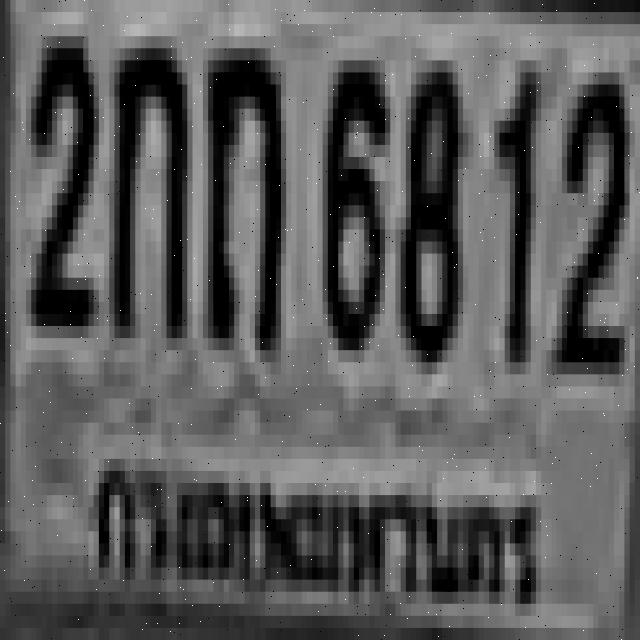1: (489, 55, 536, 356)
10GorGai: (104, 36, 182, 326)
2: (552, 60, 624, 362), (26, 30, 94, 320)
31ThorThung: (203, 42, 281, 344)
6: (317, 48, 385, 338)
8: (396, 48, 458, 350)
Bangkok: (86, 427, 552, 629)
